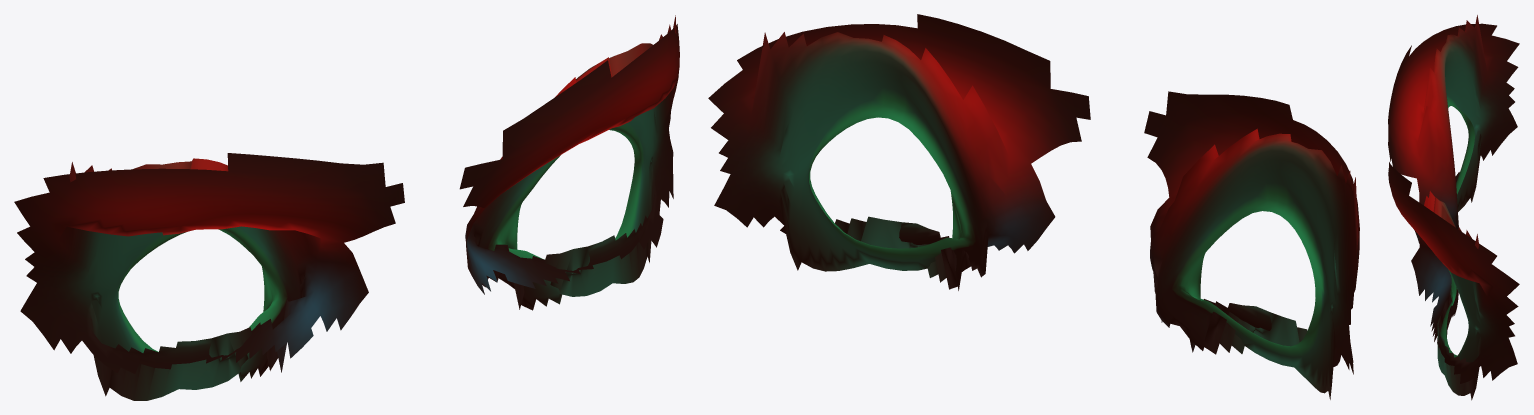
File: yeux01.dae
The picture shows the model from 3 angles, left to right: view 1: azimuth 30°, elevation 25°; view 2: azimuth 150°, elevation 25°; view 3: azimuth 270°, elevation 25°; orthographic projection. The views are drawn at different scales.
Parts seen in each view (by area): view 1: Object001; view 2: Object001; view 3: Object001.
Boxes of the visible parts, x1,y1,x2,y2 form: Object001: (14,15,679,400); Object001: (708,14,1359,399); Object001: (1388,15,1519,400).
Bounding box in the file's own units: 11.8 × 2.73 × 4.35.
